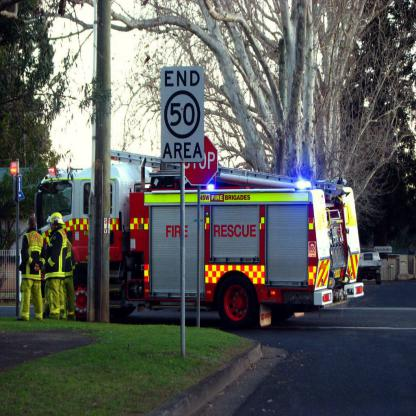Truck: (35, 156, 334, 327)
